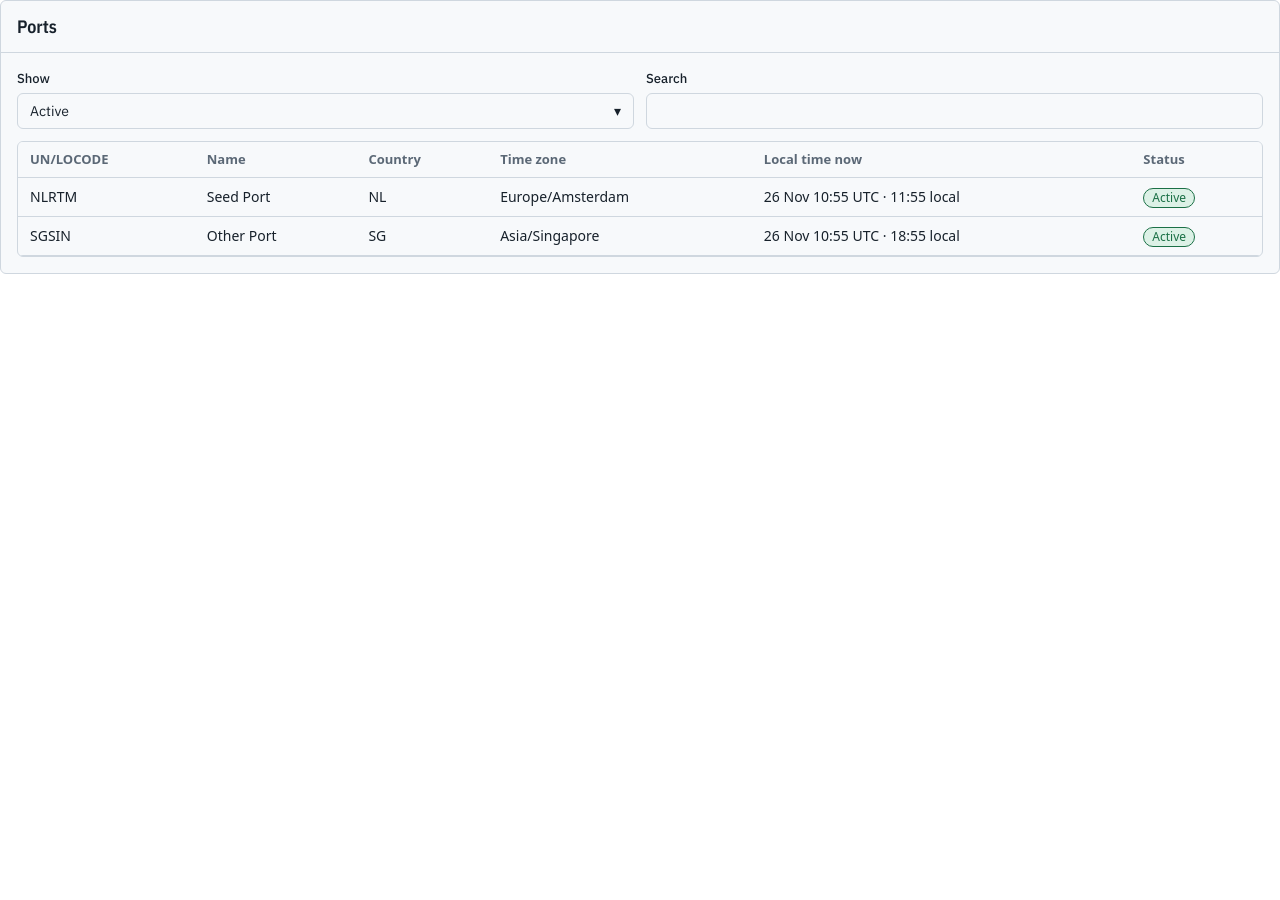
Test: Ports page › [B1-R11] non-admin roles see the record read-only without edit controls
Click the cell "Seed Port" at (276,197), box x1=195 y1=178 x2=356 y2=216
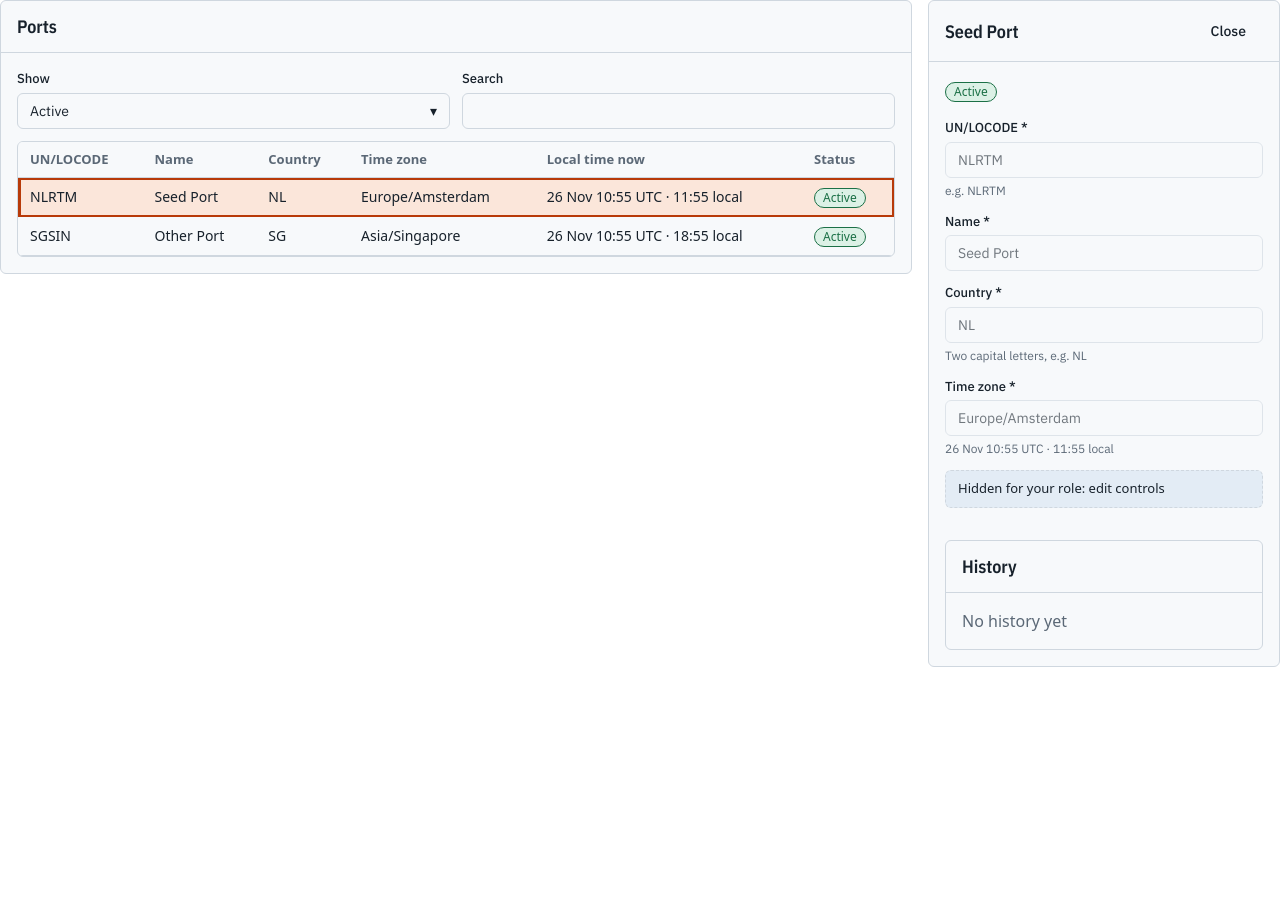
Result: the form named "Details" is shown at x1=945 y1=118 x2=1263 y2=508
Result: the field labelled "UN/LOCODE *" is disabled at x1=945 y1=142 x2=1263 y2=178
Result: the field labelled "Name *" is disabled at x1=945 y1=235 x2=1263 y2=271
